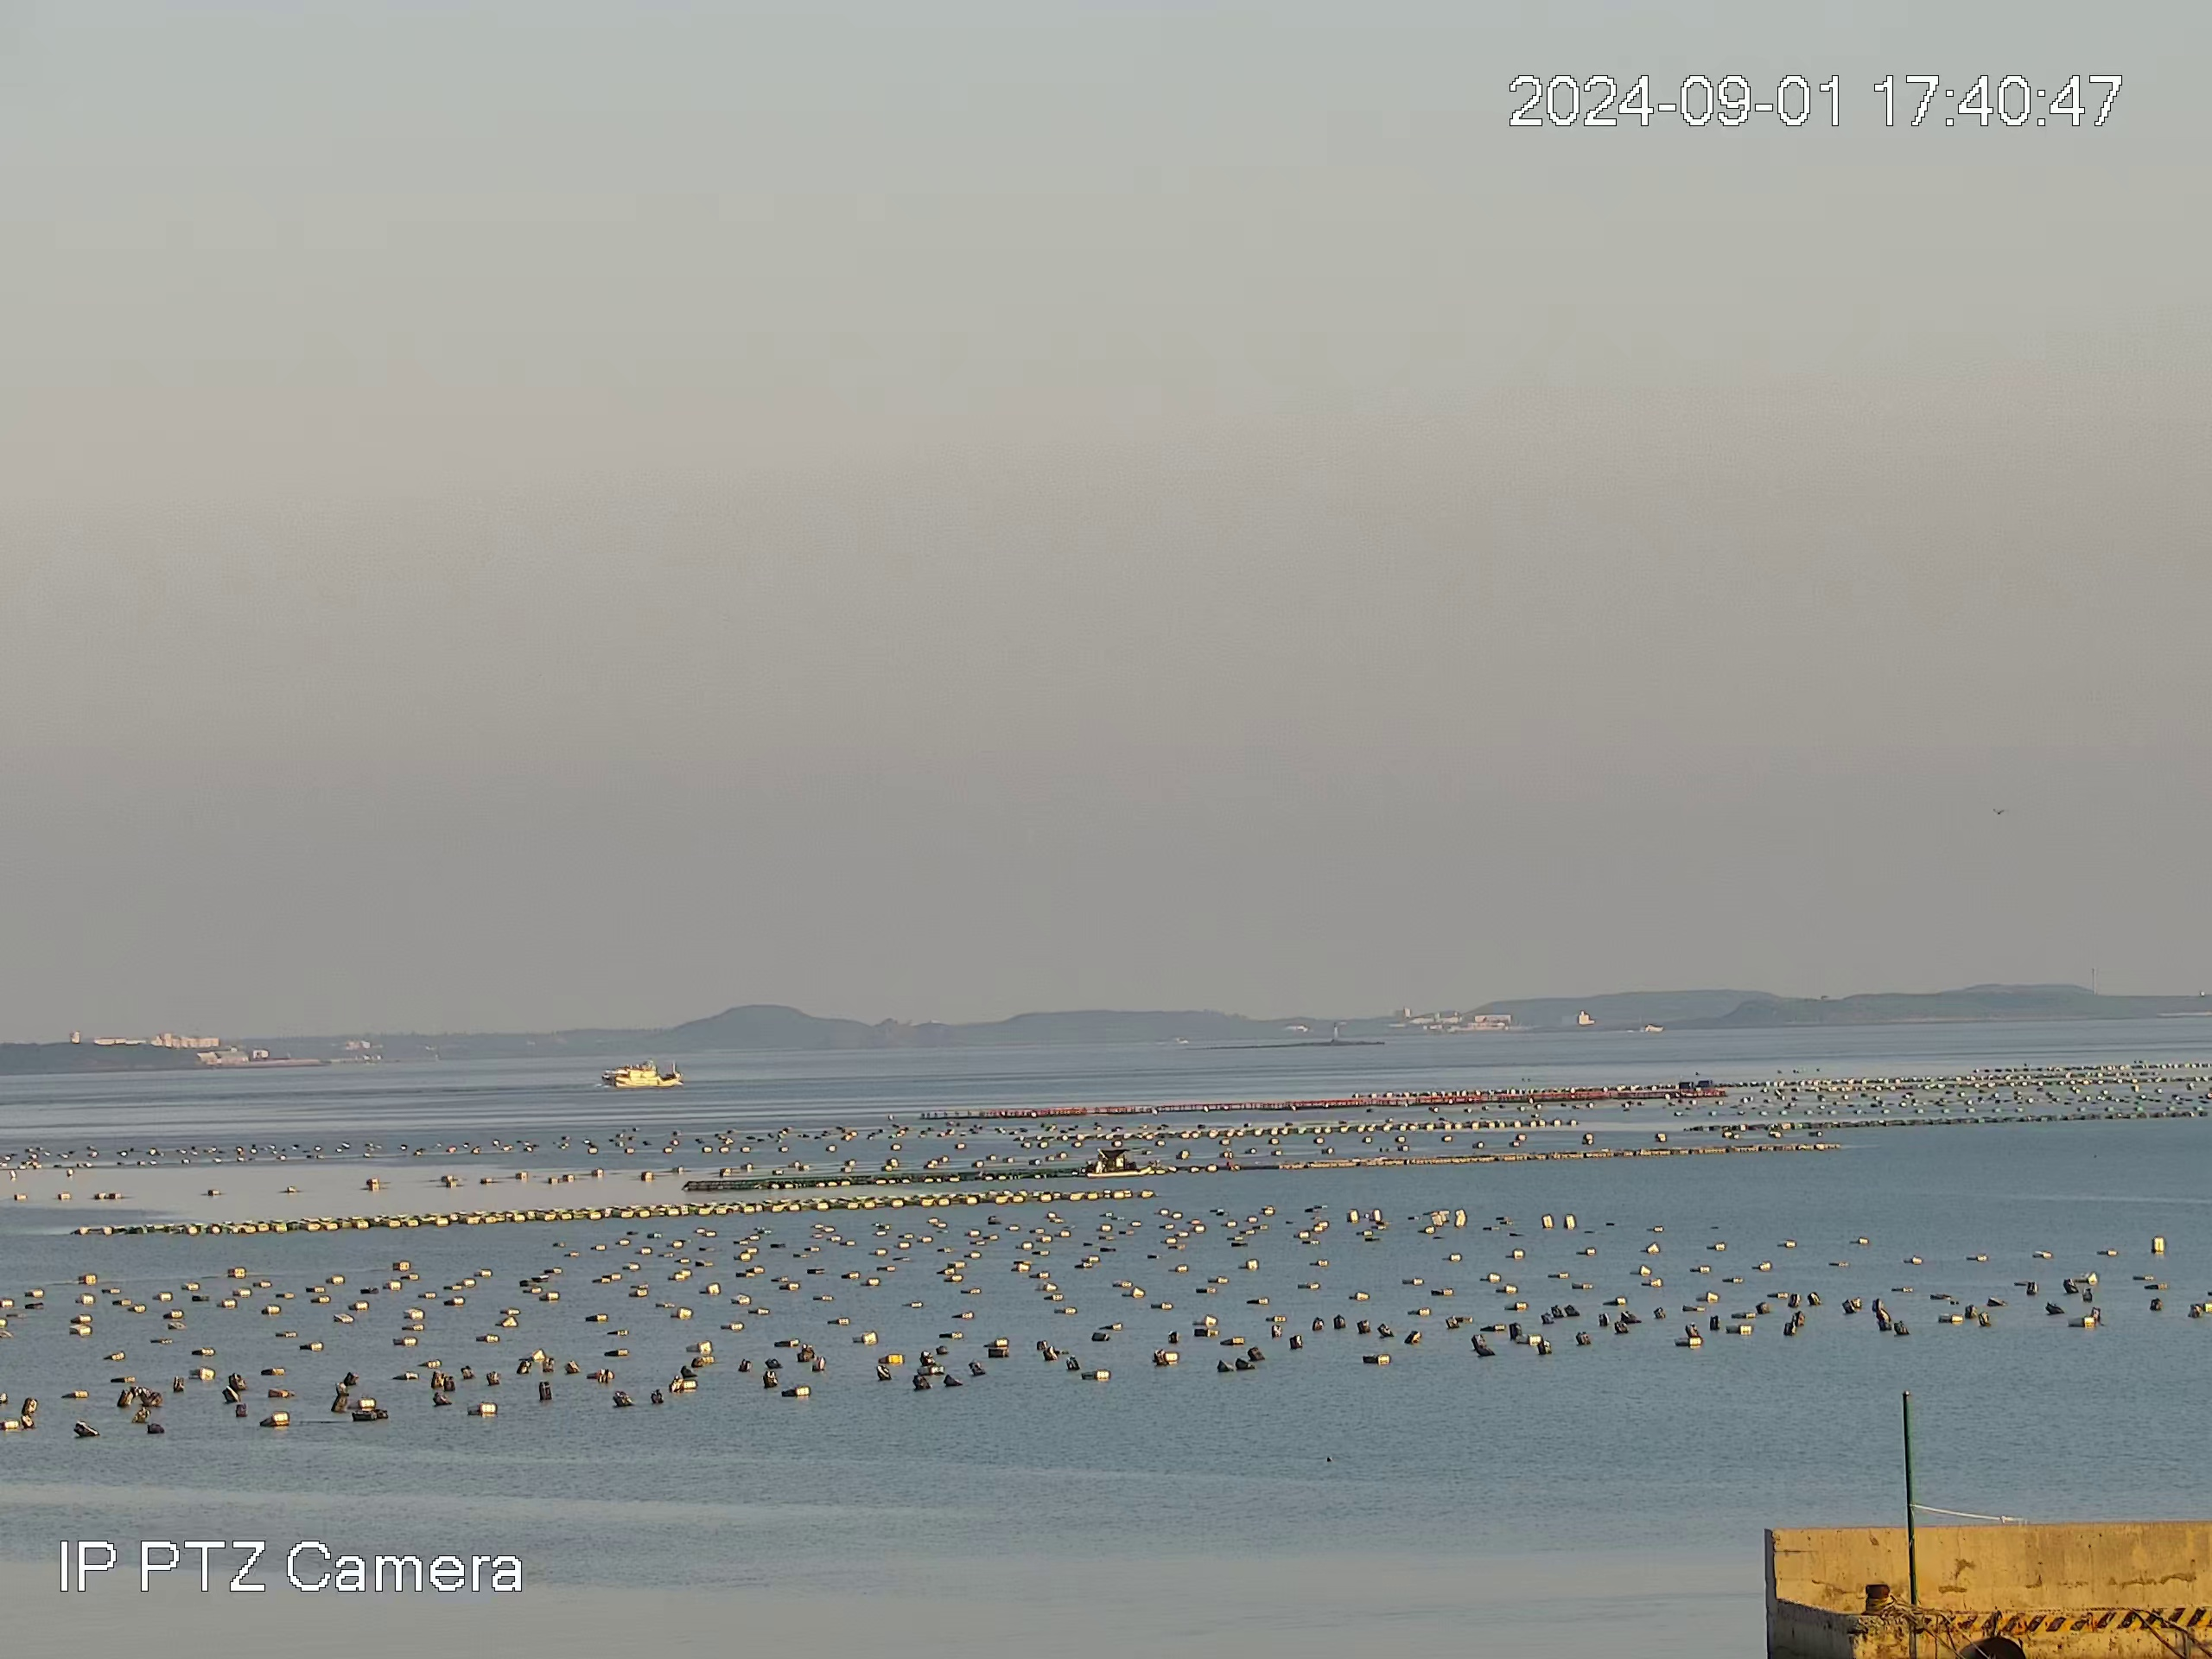boat: (601, 1056, 686, 1089), (1080, 1145, 1157, 1180)
